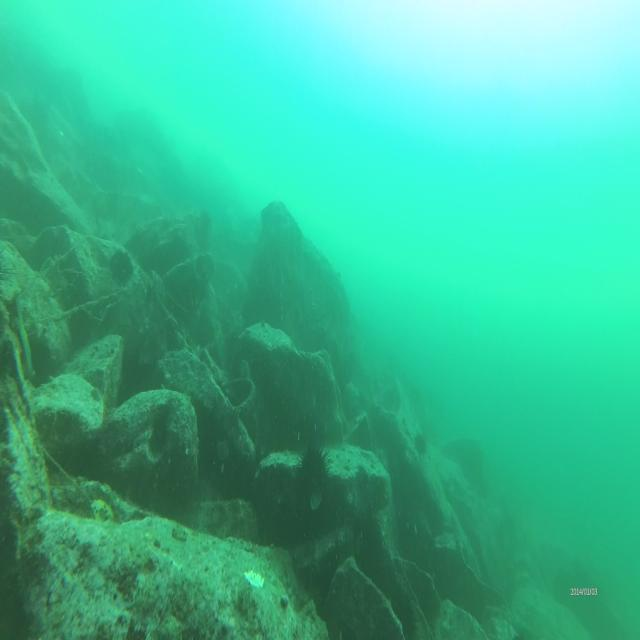echinus: (294, 438, 333, 499), (109, 243, 136, 289), (412, 426, 428, 457)
